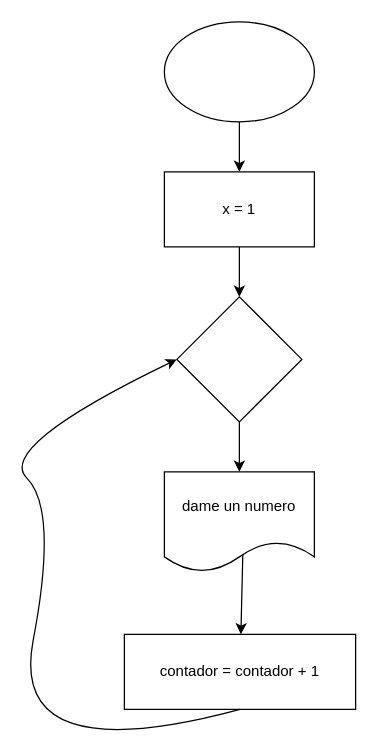
Image size: 378x753. Some labels were removed from this diagram. The centre of each missing label's shape, as x and y in pixels:
"inicio" belongs at pixel 238 71.
"x != 0" belongs at pixel 239 359.
